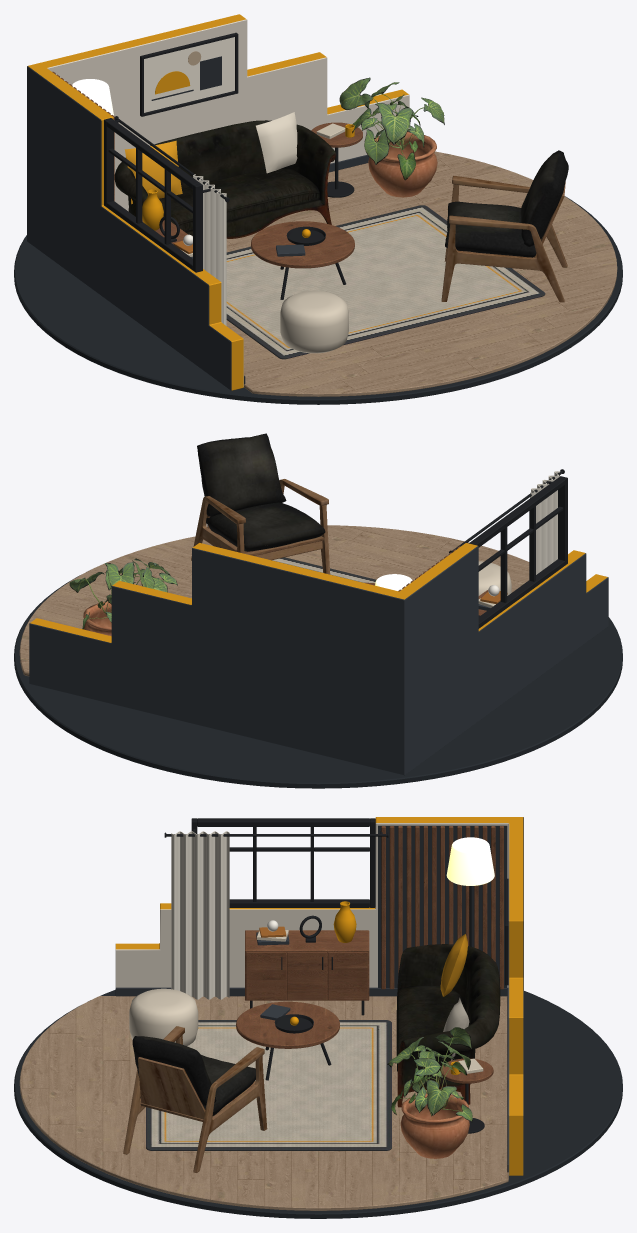
File: farlo-ambiente.glb
3 renders of one model, top to bottom at view 1: azimuth 30°, elevation 25°; view 2: azimuth 150°, elevation 25°; view 3: azimuth 270°, elevation 25°, orthographic.
Visible parts, largest first — view 1: FarloAmbiente_Texturas, FarloAmbiente_Liso, FarloAmbiente_Solidos; view 2: FarloAmbiente_Liso, FarloAmbiente_Texturas, FarloAmbiente_Solidos; view 3: FarloAmbiente_Texturas, FarloAmbiente_Liso, FarloAmbiente_Solidos.
Boxes of the visible parts, <box> form: FarloAmbiente_Texturas: <box>52,71,617,396</box>; FarloAmbiente_Liso: <box>14,14,622,404</box>; FarloAmbiente_Solidos: <box>72,32,354,299</box>; FarloAmbiente_Liso: <box>14,471,622,788</box>; FarloAmbiente_Texturas: <box>19,433,529,676</box>; FarloAmbiente_Solidos: <box>375,469,567,628</box>; FarloAmbiente_Texturas: <box>19,826,508,1210</box>; FarloAmbiente_Liso: <box>14,817,622,1218</box>; FarloAmbiente_Solidos: <box>164,818,508,1133</box>.
Bounding box in the file's own units: 4.8 × 1.58 × 4.8.
12 materials, 8 textured.
